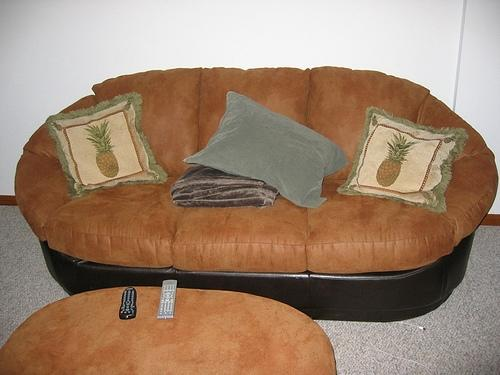pineapple: (376, 132, 420, 186), (84, 119, 119, 177)
